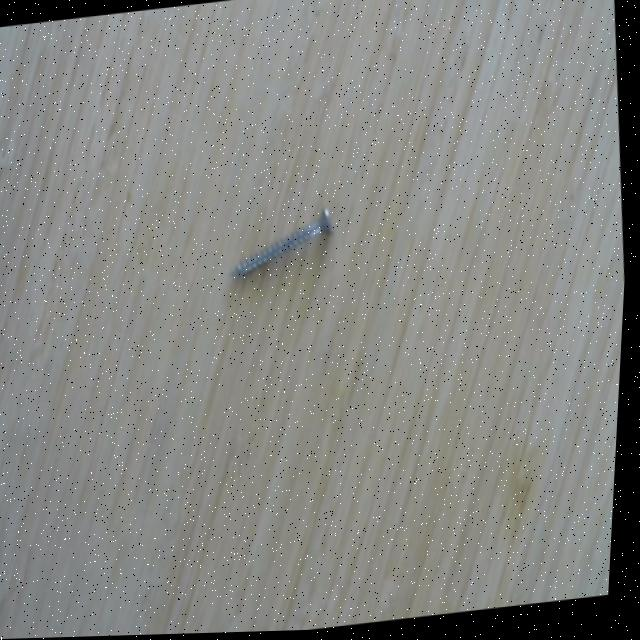Black screw: (222, 200, 346, 290)
